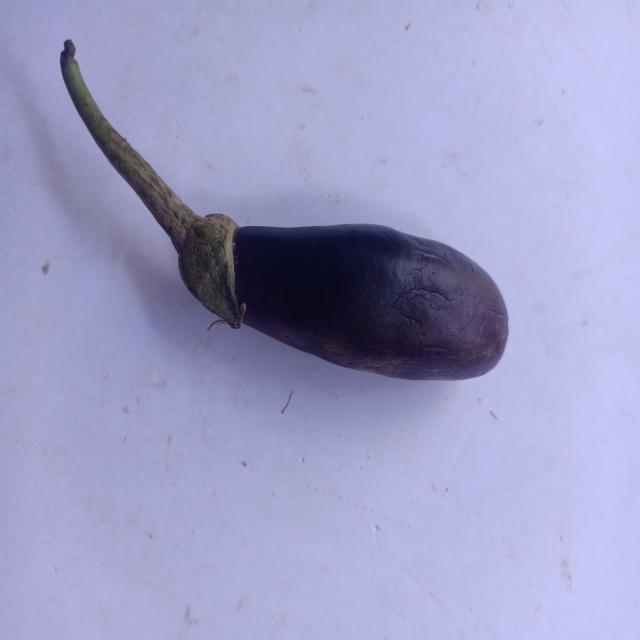Brinjal: (35, 26, 548, 436)
